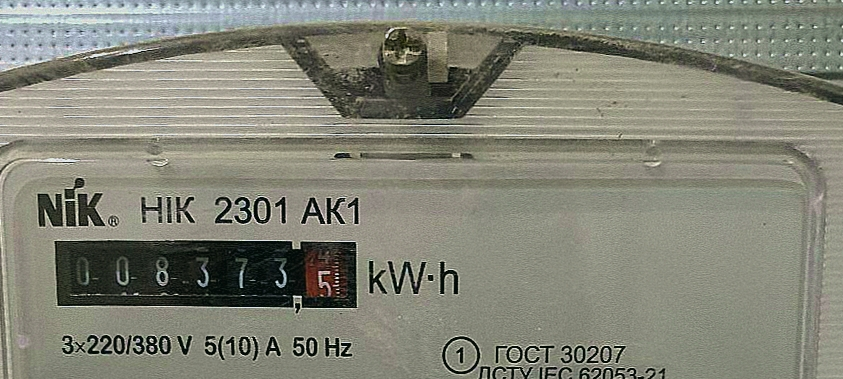0: (74, 253, 95, 290), (114, 253, 134, 289)
3: (271, 255, 294, 292), (193, 254, 215, 291)
4: (316, 247, 335, 267)
5: (317, 268, 336, 298)
7: (233, 253, 252, 292)
8: (153, 253, 175, 289)
screen: (50, 232, 368, 323)
